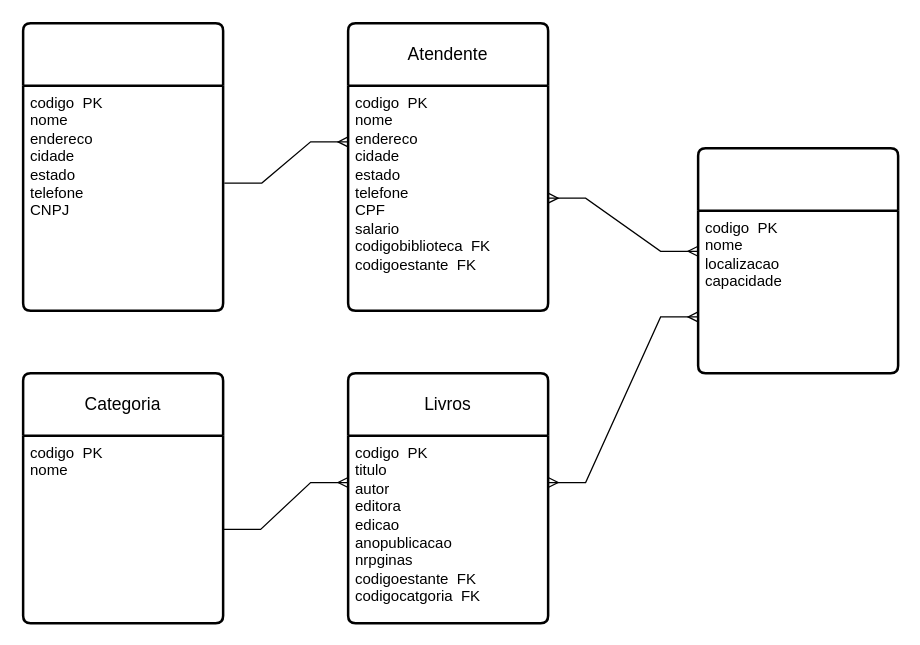
The diagram is 920 pixels wide and 645 high, and some of its shapes have lost their labels. Each missing label, with the box of its shape:
Biblioteca: (21, 21, 224, 311)
Estante: (696, 146, 899, 374)
